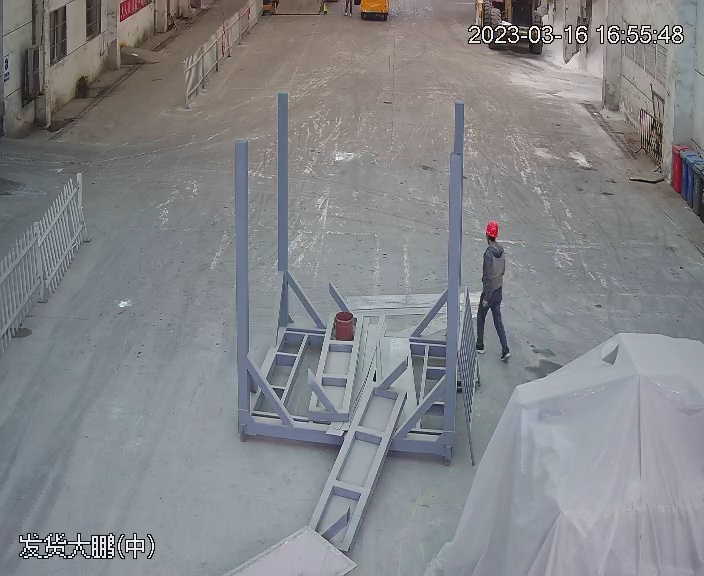head: (481, 220, 506, 263)
helmet: (484, 220, 500, 236)
people: (475, 220, 513, 362)
